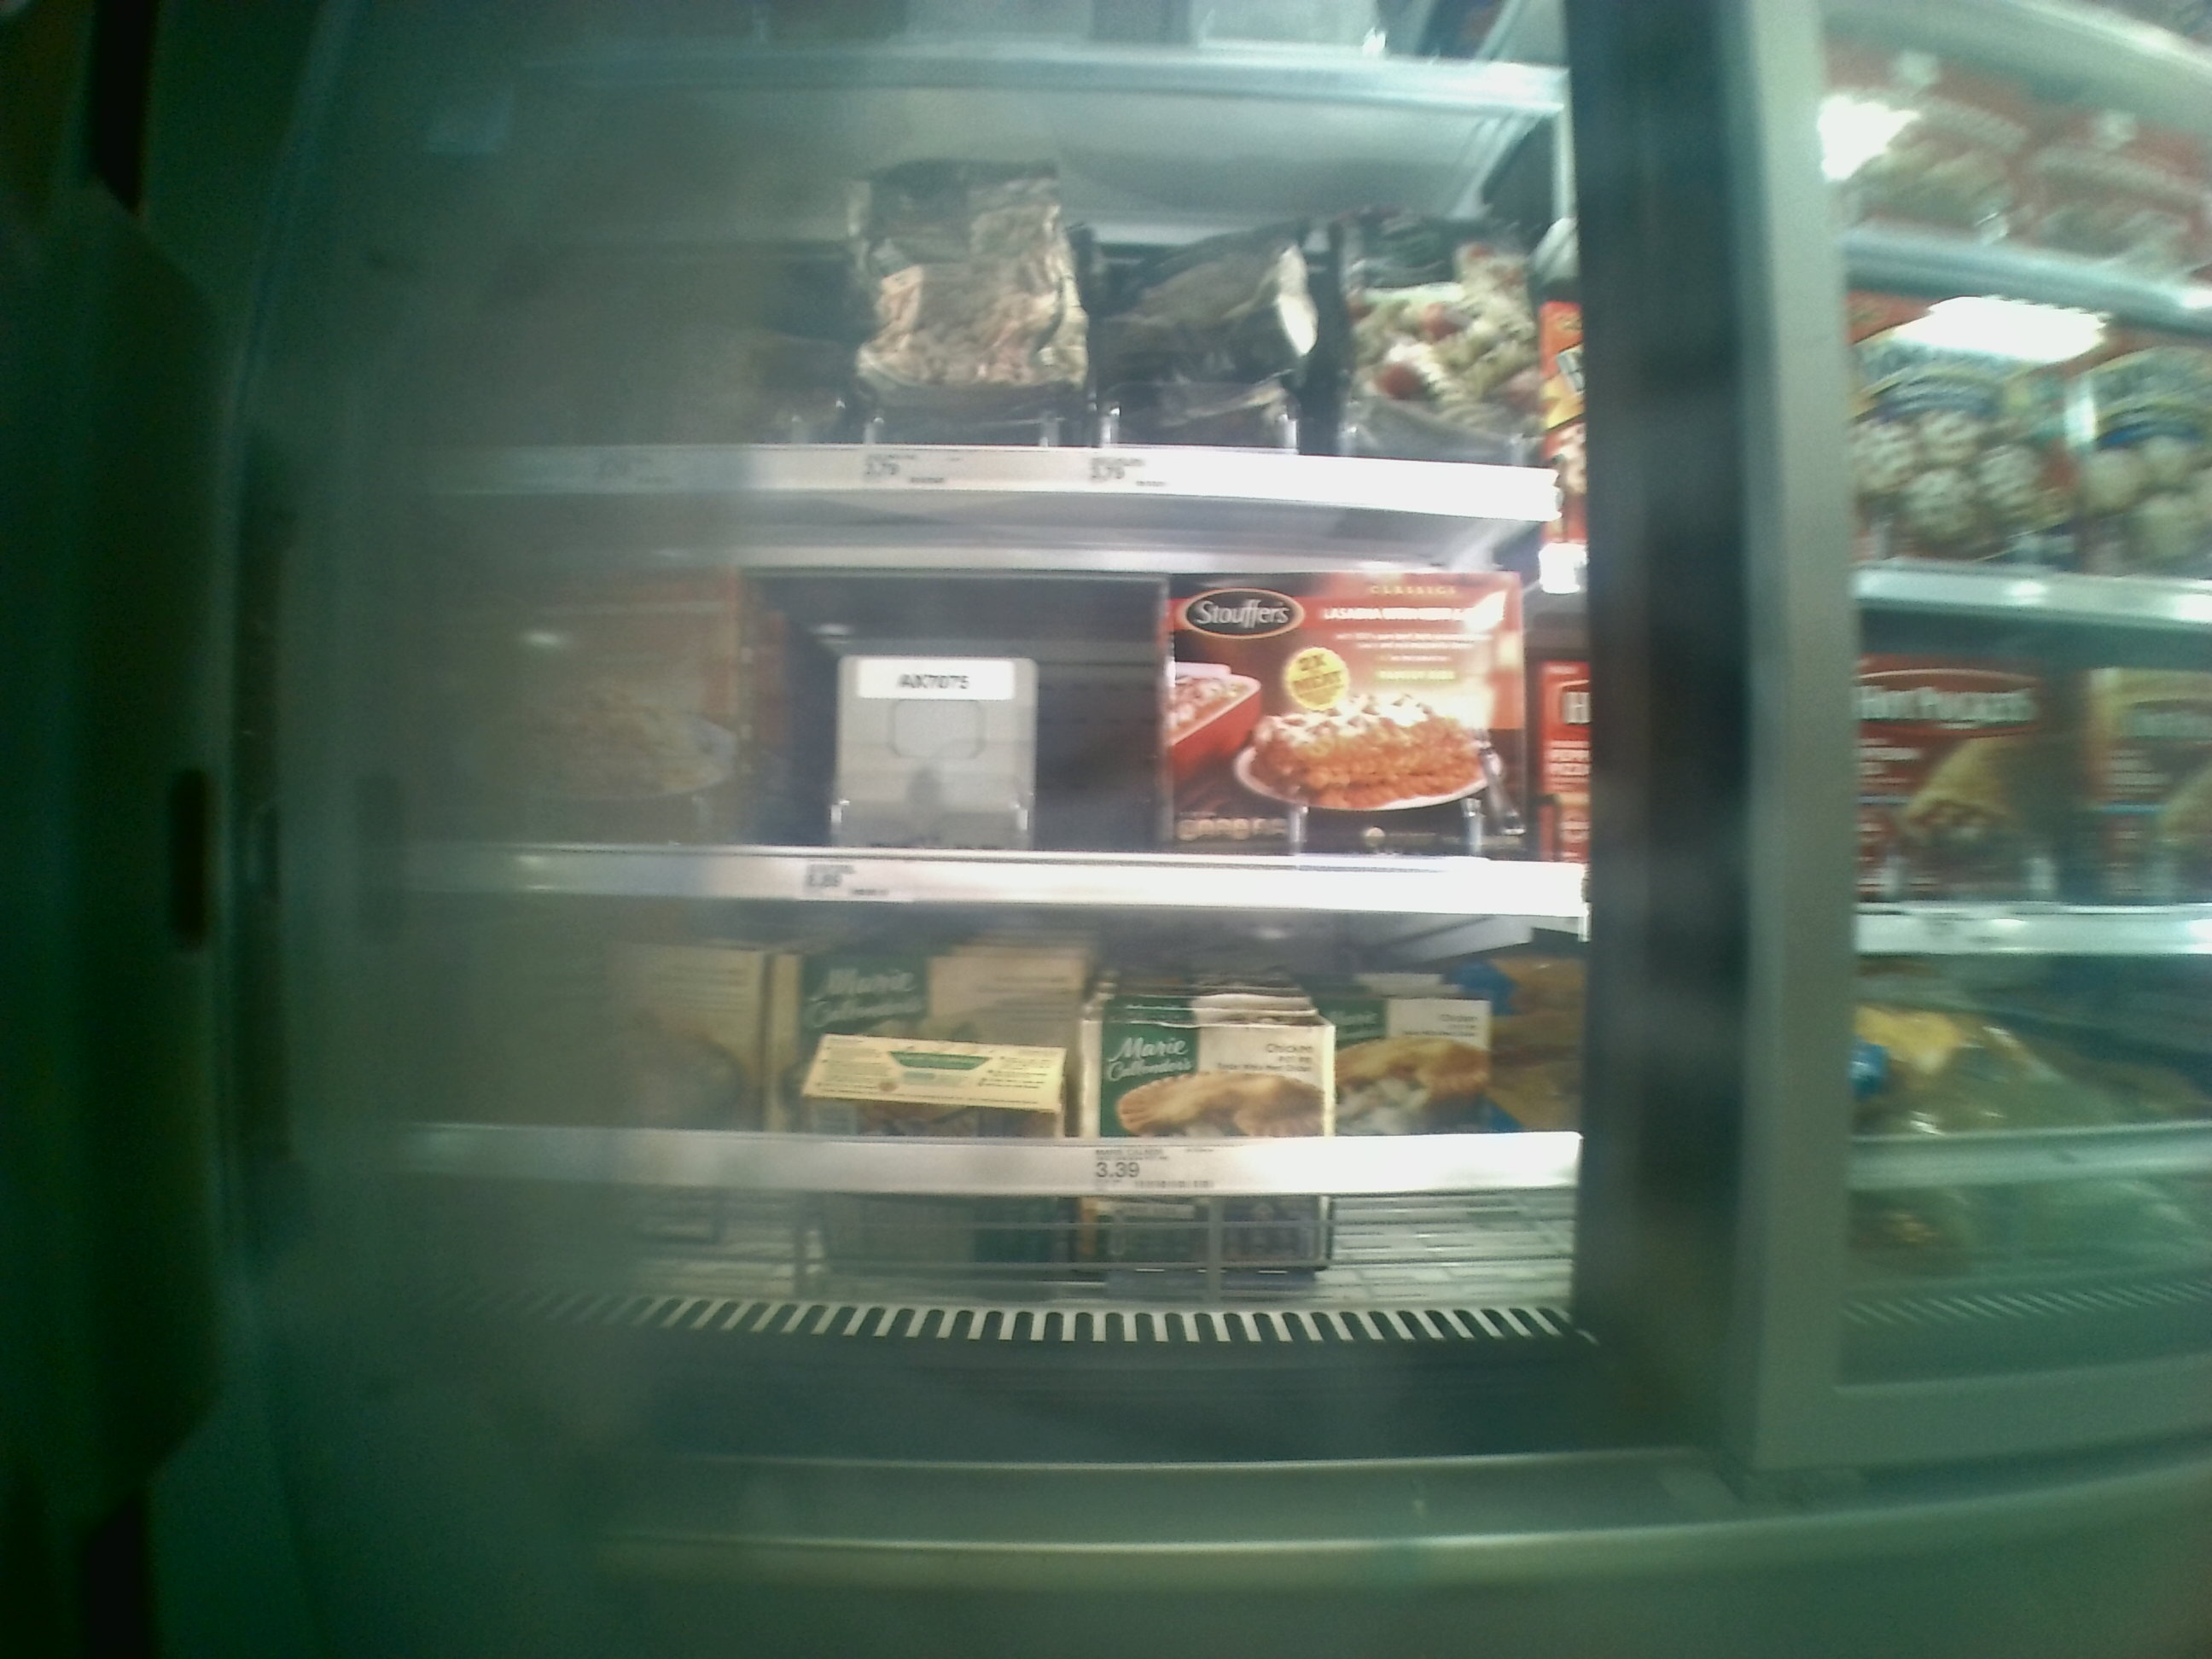shelf: (399, 890, 1578, 1342), (369, 98, 1581, 511), (395, 498, 1585, 901)
